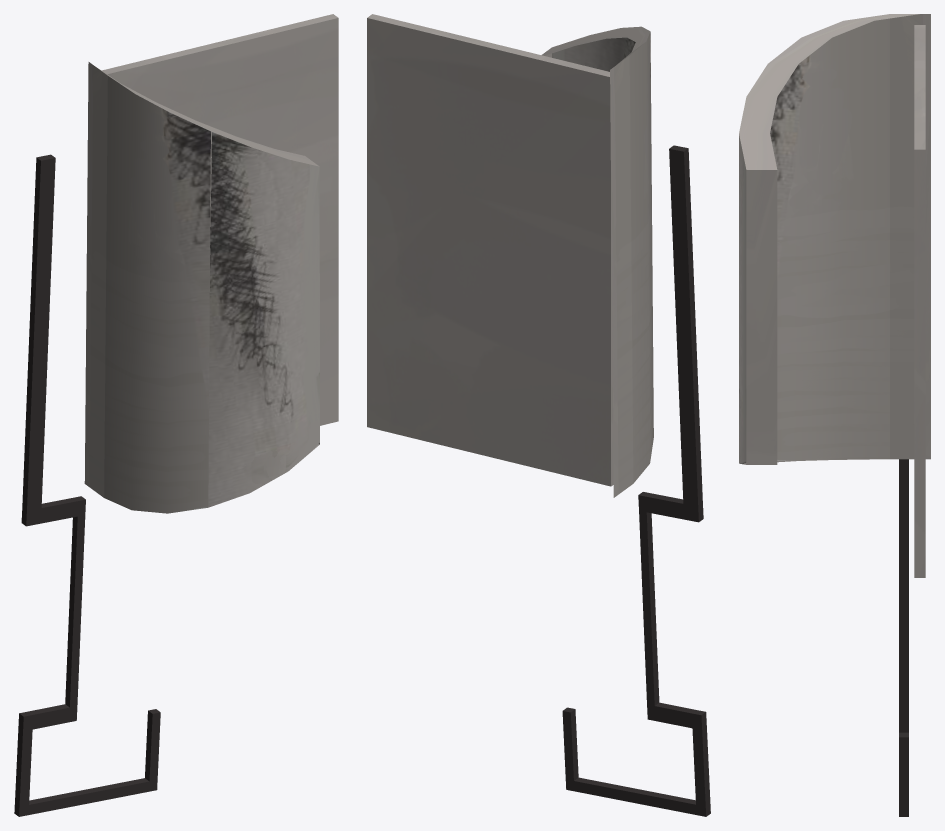
The model's file is Glass.fbx.
3 renders of one model, left to right at view 1: azimuth 30°, elevation 25°; view 2: azimuth 150°, elevation 25°; view 3: azimuth 270°, elevation 25°, orthographic. The views are drawn at different scales.
Parts seen in each view (by area): view 1: pCylinder1, pCube6, pCube3; view 2: pCube6, pCylinder1, pCube3; view 3: pCylinder1, pCube6, pCube3.
Boxes of the visible parts, x1,y1,x2,y2 form: pCylinder1: [84, 62, 319, 513]; pCube6: [102, 14, 338, 425]; pCube3: [14, 154, 160, 816]; pCube6: [367, 14, 613, 486]; pCylinder1: [541, 26, 653, 497]; pCube3: [562, 145, 710, 816]; pCylinder1: [739, 14, 930, 464]; pCube6: [914, 25, 925, 577]; pCube3: [899, 459, 908, 816].
Size of the model in its own units: 2.65 by 5.67 by 1.27.
